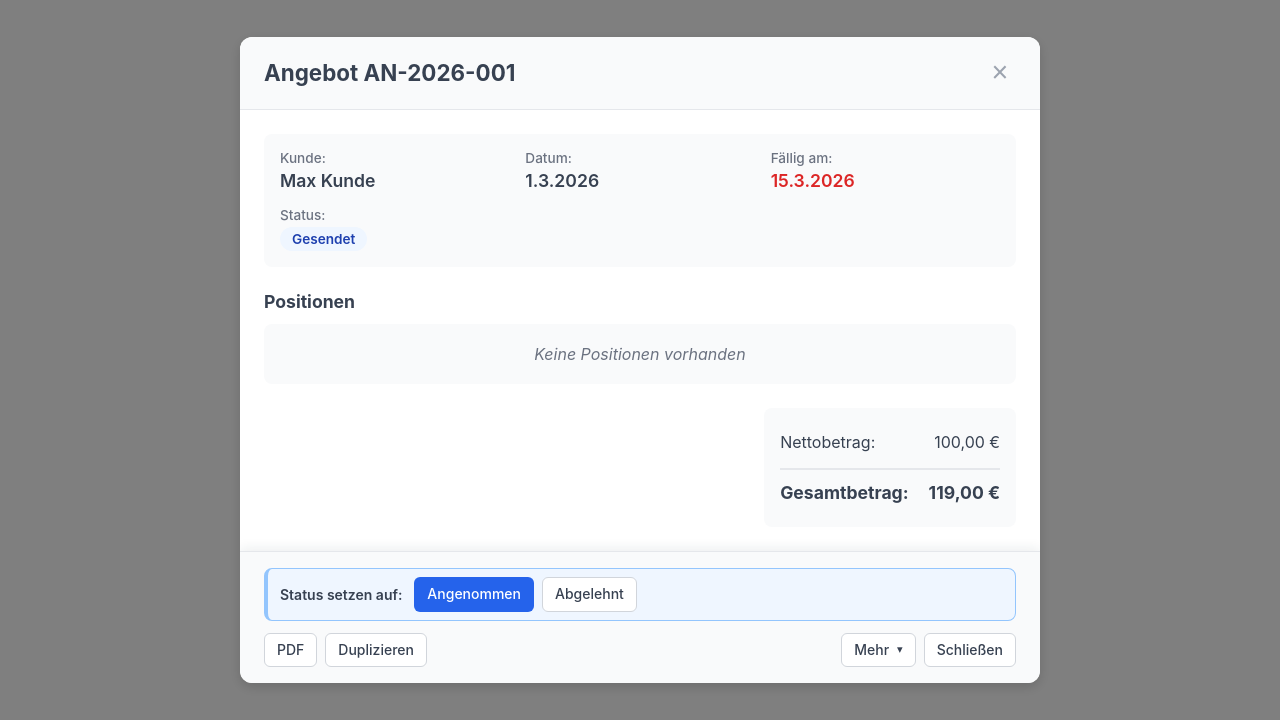
DocumentViewModal — action bar of offers and cost calculations › sends the accepted status and reports the backend message when a change is refused
What coordinates should you click on to do the following:
click the button "Angenommen"
I would click on:
 (474, 594)
Its box is [414,577,534,612].
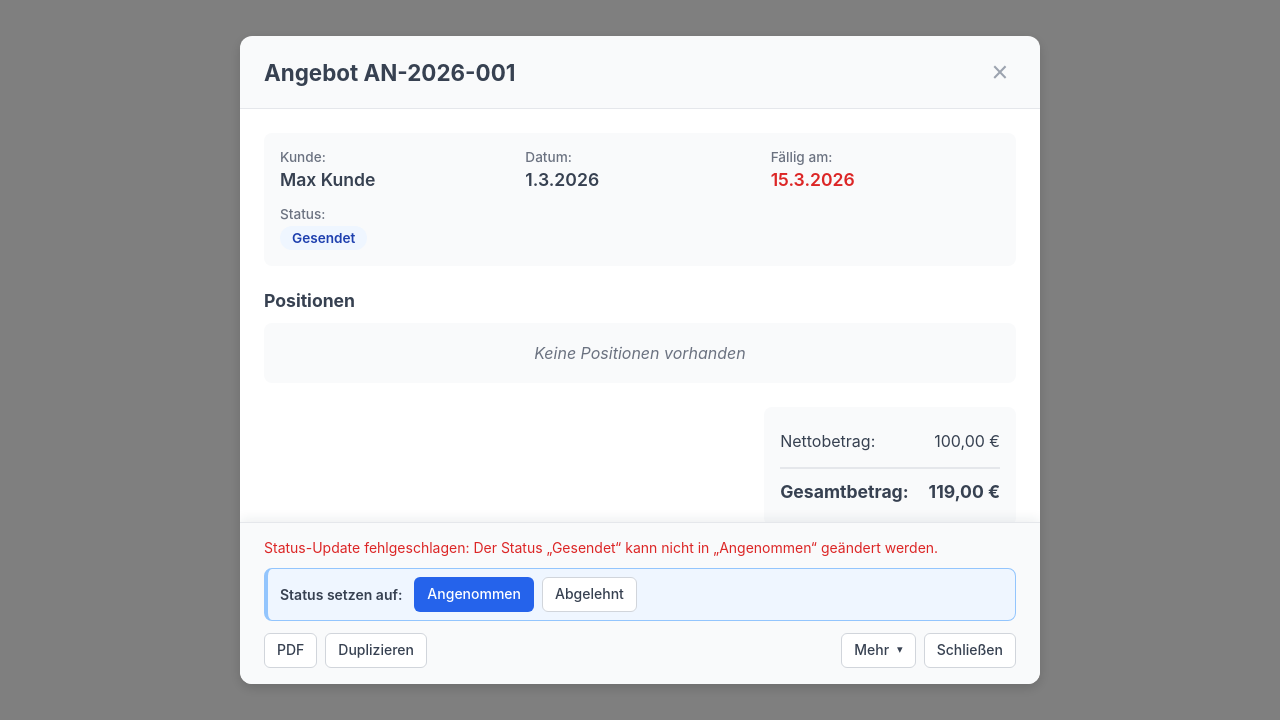
Now the message with class "action-error" shows "kann nicht in „Angenommen“ geändert werden", box [264,539,938,556]
